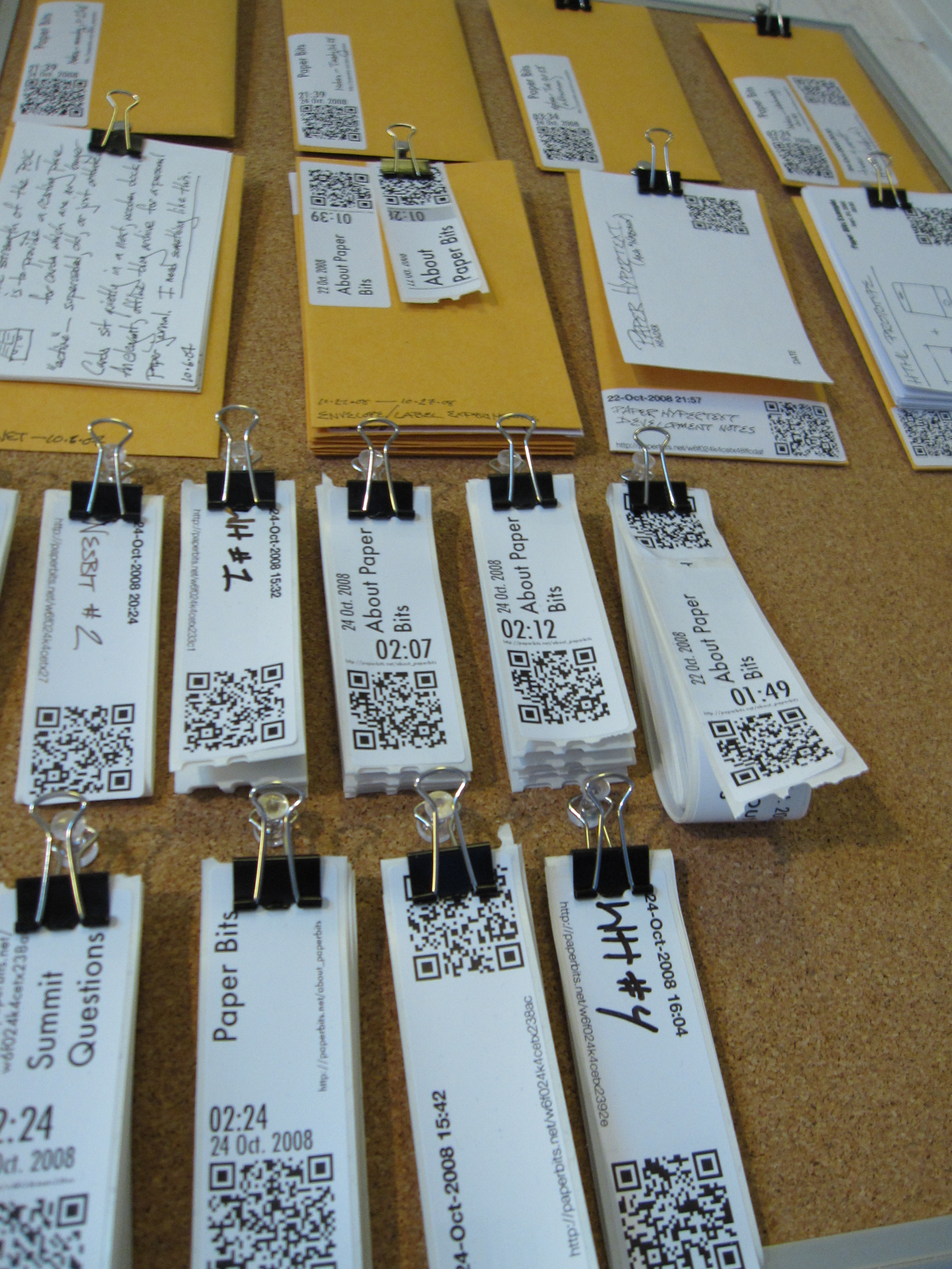QR-CODE: (610, 1148, 746, 1269), (206, 1153, 337, 1269), (406, 863, 525, 981), (707, 705, 834, 787), (29, 703, 135, 797), (183, 662, 284, 753), (507, 646, 611, 725), (347, 669, 447, 749), (0, 1193, 88, 1269), (763, 400, 842, 458), (625, 512, 713, 548), (378, 167, 451, 205), (18, 78, 88, 117), (683, 195, 750, 235), (896, 409, 952, 456), (308, 168, 372, 209), (536, 126, 599, 163), (300, 104, 361, 142), (771, 142, 834, 178), (902, 207, 952, 246), (792, 77, 850, 106)
